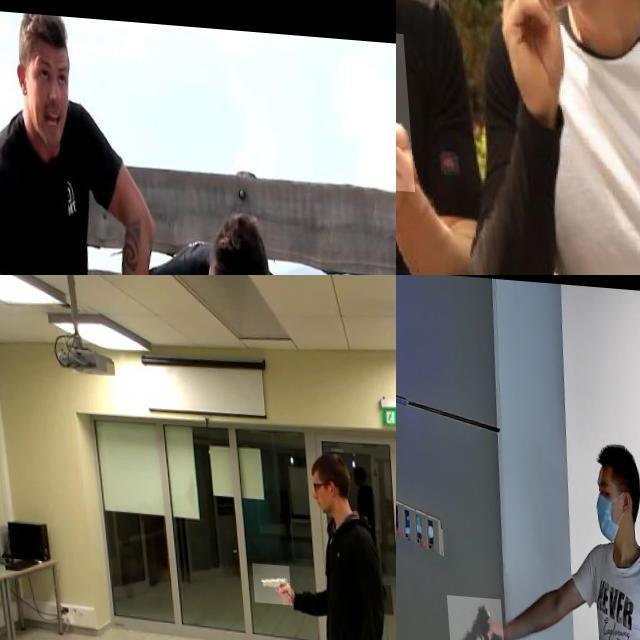-: (396, 25, 440, 188)
gun-knife-thesis - v11 Yolov5 augmented: (441, 591, 500, 640), (246, 558, 286, 600)
